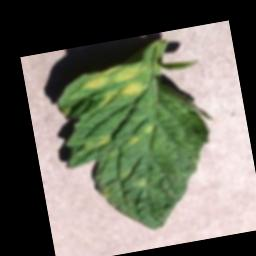Leaf_Mold: (79, 60, 145, 91), (97, 79, 150, 109), (96, 133, 113, 147), (142, 123, 155, 135)
